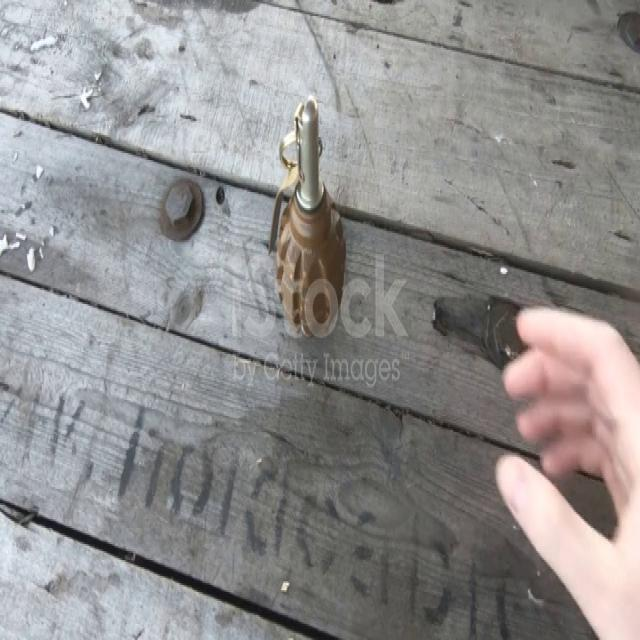grenade: (271, 89, 348, 347)
